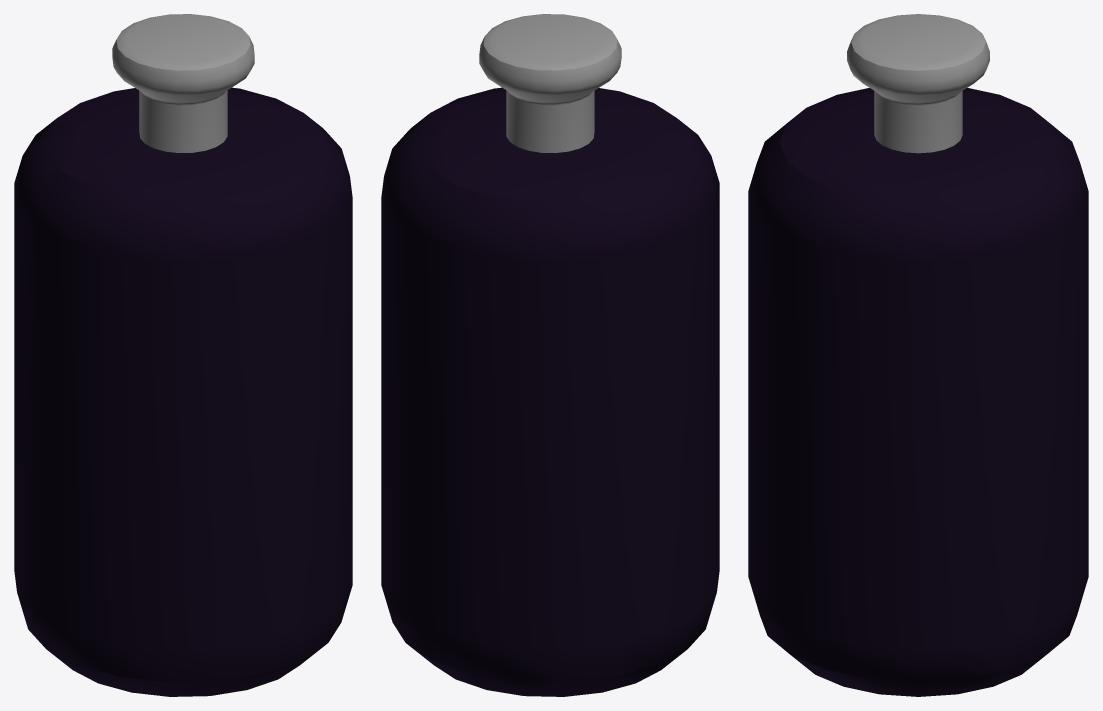
The model's file is BuoyFBX.fbx.
The picture shows the model from 3 angles, left to right: view 1: azimuth 30°, elevation 25°; view 2: azimuth 150°, elevation 25°; view 3: azimuth 270°, elevation 25°; orthographic projection.
Visible parts, largest first — view 1: pCylinder13; view 2: pCylinder13; view 3: pCylinder13.
Part boxes in pixels (left/top/right/bottom): pCylinder13: left=14, top=14, right=352, bottom=696; pCylinder13: left=381, top=14, right=719, bottom=696; pCylinder13: left=748, top=14, right=1088, bottom=696.
Bounding box in the file's own units: 0.3562 × 0.7101 × 0.3562.
